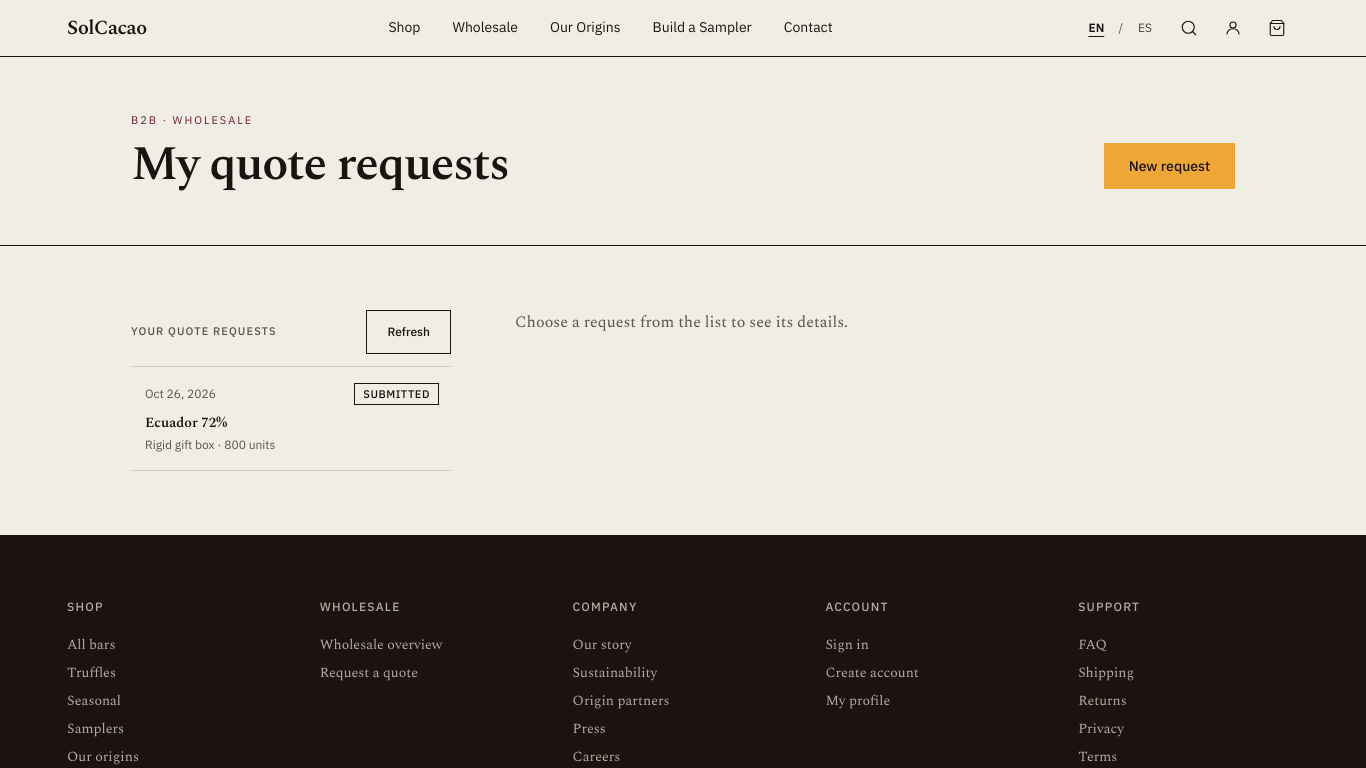
Scenario: the details of a request › says when no files were sent, and leaves out the quote and the notes that are not there
What coordinates should you click on to do the following:
click the link "Ecuador 72%"
I would click on:
 (180, 393)
Its box is [131,366,451,470].
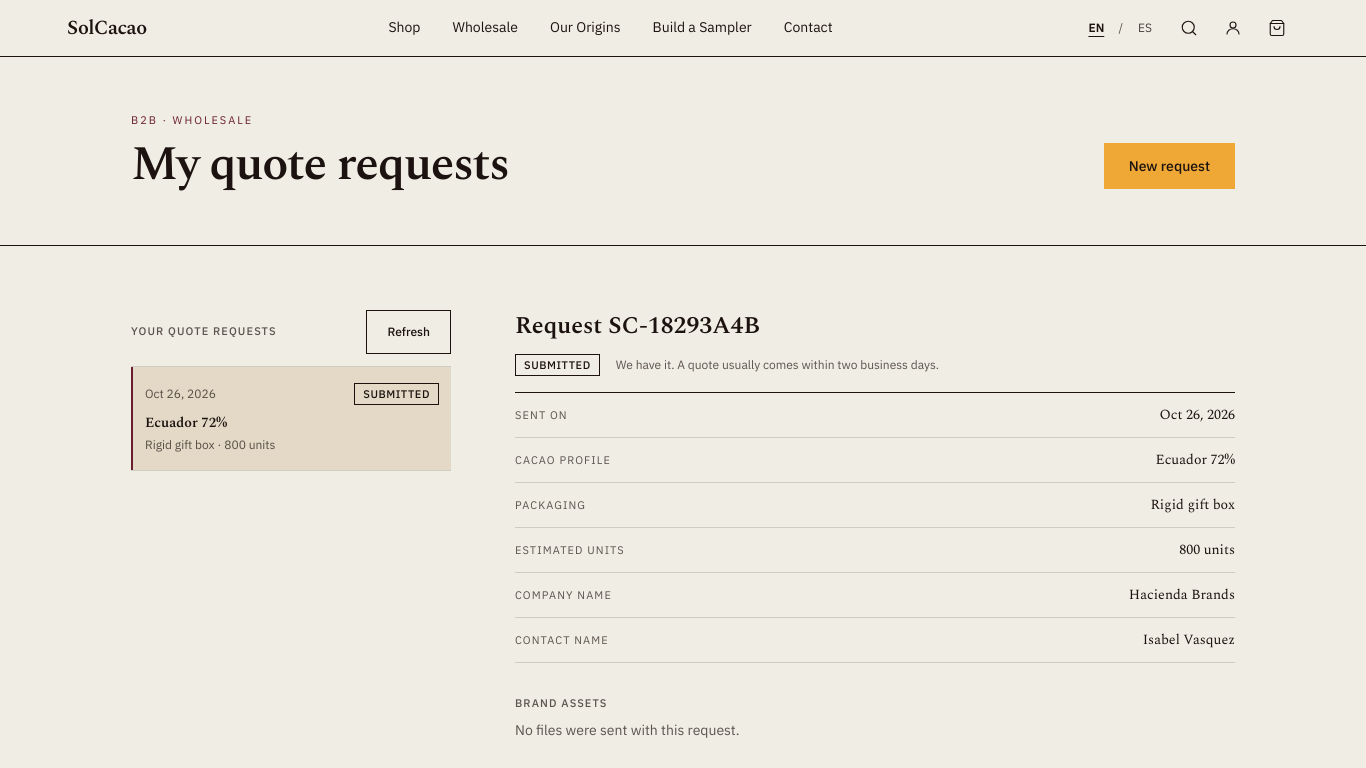
Expected: the text "No files were sent with this request." is shown, [515,720,740,738]
Expected: the text "We have it. A quote usually comes within two business days." is shown, [616,357,939,373]
